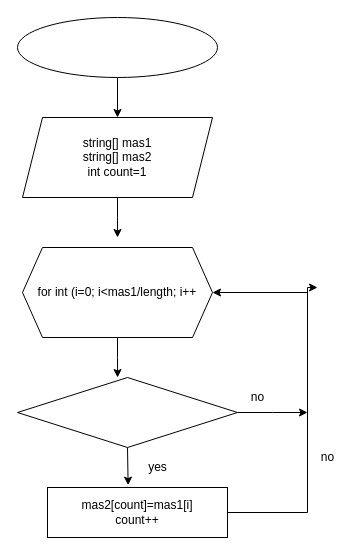
The diagram is 360 pixels wide and 555 high, and some of its shapes have lost their labels. Each missing label, with the box of its shape:
if (mas1[i]/length <=3): (16, 376, 238, 448)
start: (16, 16, 218, 78)
